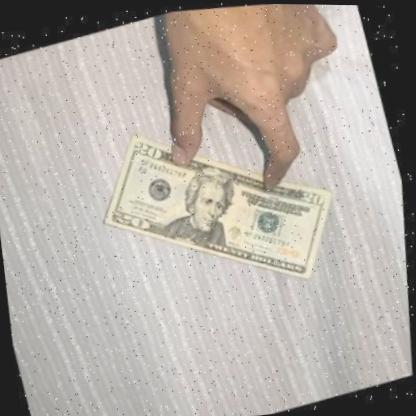twenty-front: (70, 71, 368, 339)
